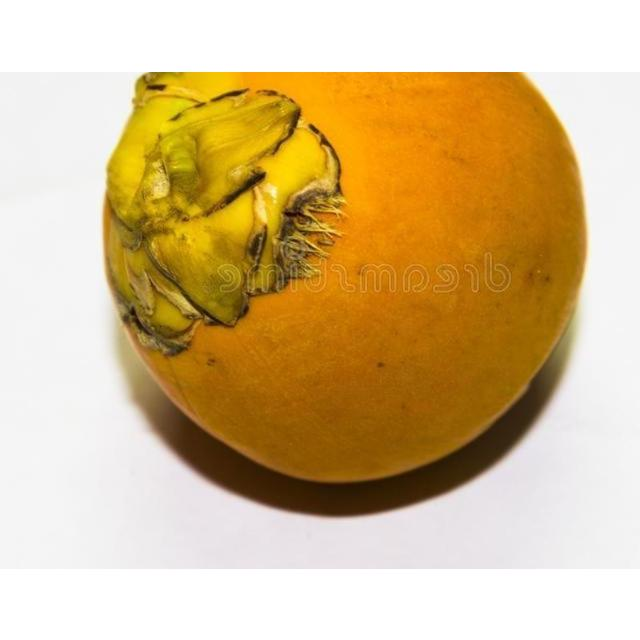good: (102, 71, 590, 485)
